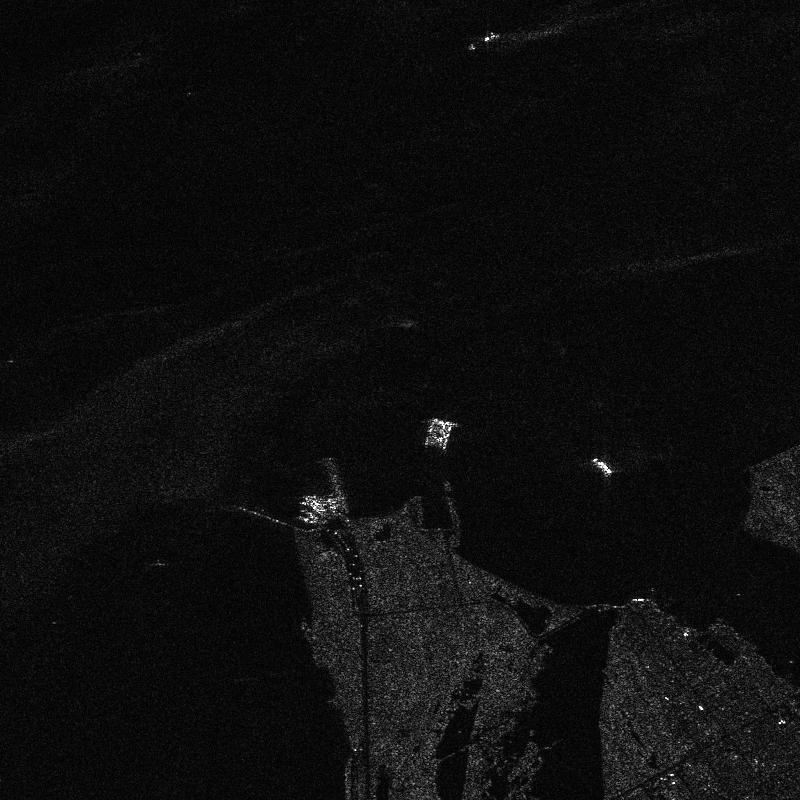ship: (305, 495, 325, 514), (593, 458, 612, 474), (304, 509, 318, 519), (298, 515, 313, 523), (484, 34, 499, 42), (327, 498, 336, 508)
